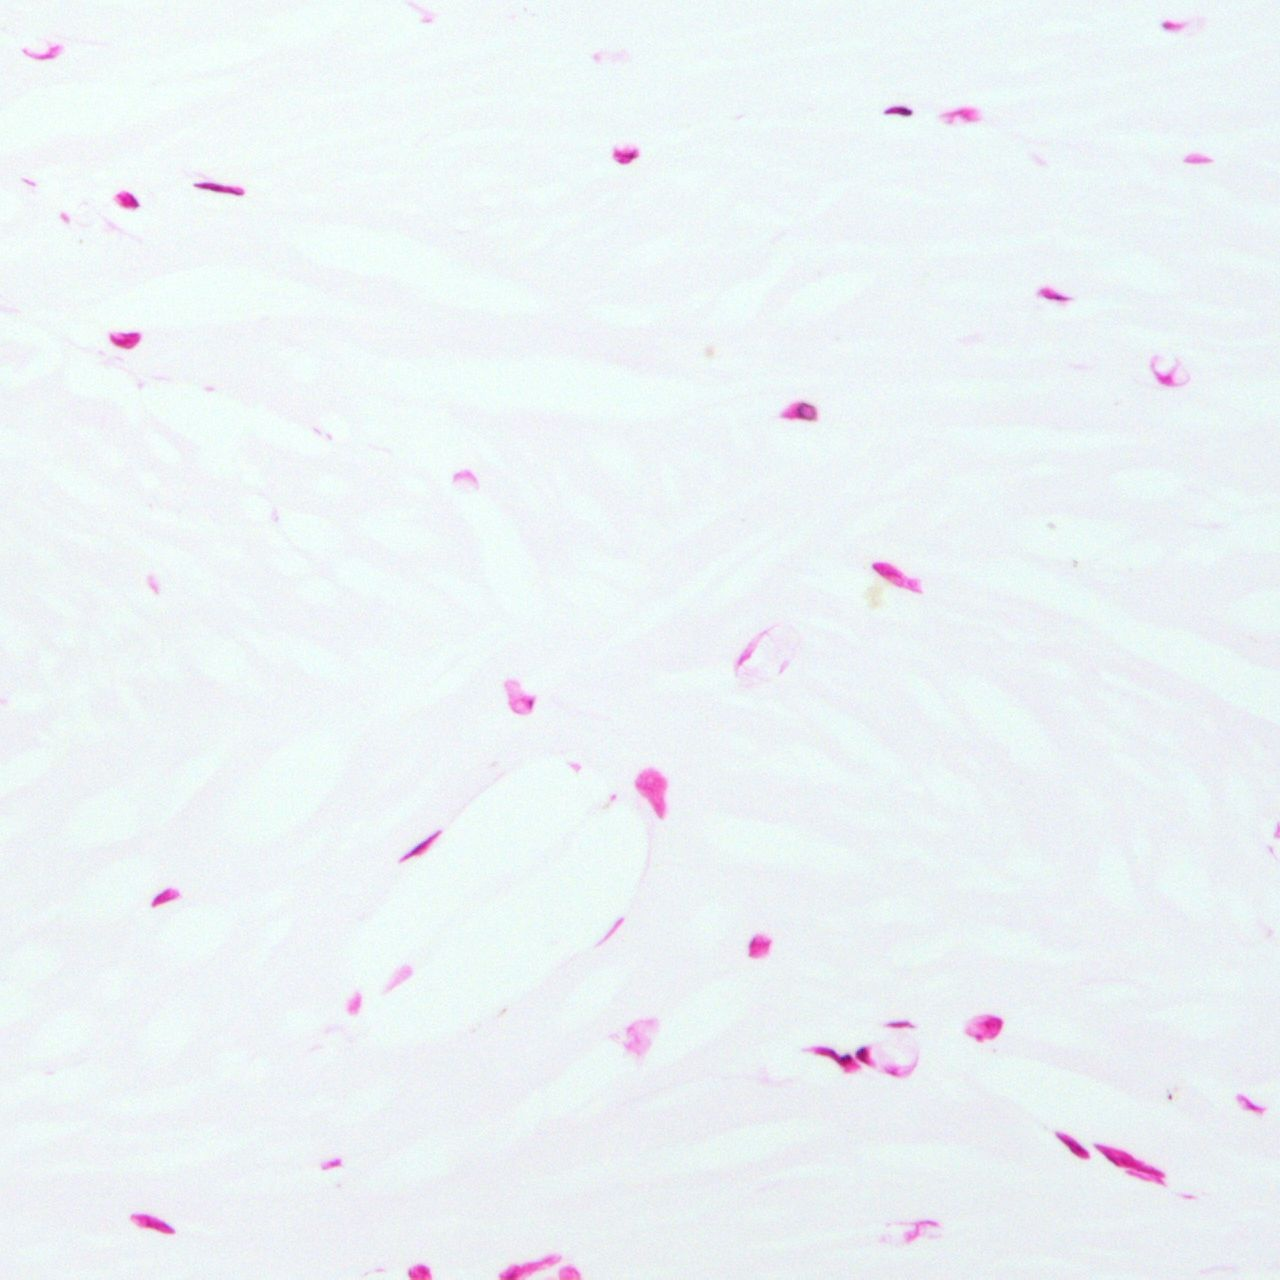nucleus-FG: (1094, 1141, 1165, 1185), (870, 554, 928, 599), (1053, 1125, 1092, 1164), (404, 829, 445, 863), (130, 1208, 177, 1237), (192, 177, 246, 196), (781, 400, 818, 420), (114, 186, 139, 213), (836, 1051, 860, 1075), (110, 332, 139, 348), (612, 148, 639, 165), (747, 935, 769, 955), (853, 1046, 874, 1065), (883, 104, 911, 116), (1043, 287, 1069, 299), (1162, 20, 1183, 29)
